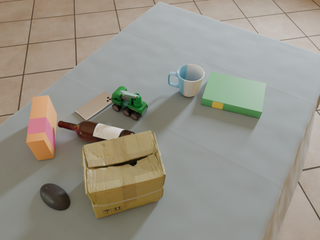book: (201, 72, 266, 118)
bottle: (58, 120, 135, 143)
box: (82, 131, 166, 218), (26, 95, 57, 160)
cup: (168, 64, 204, 97)
mouse: (40, 184, 70, 210)
phone: (75, 91, 112, 120)
toy_car: (111, 86, 148, 120)
